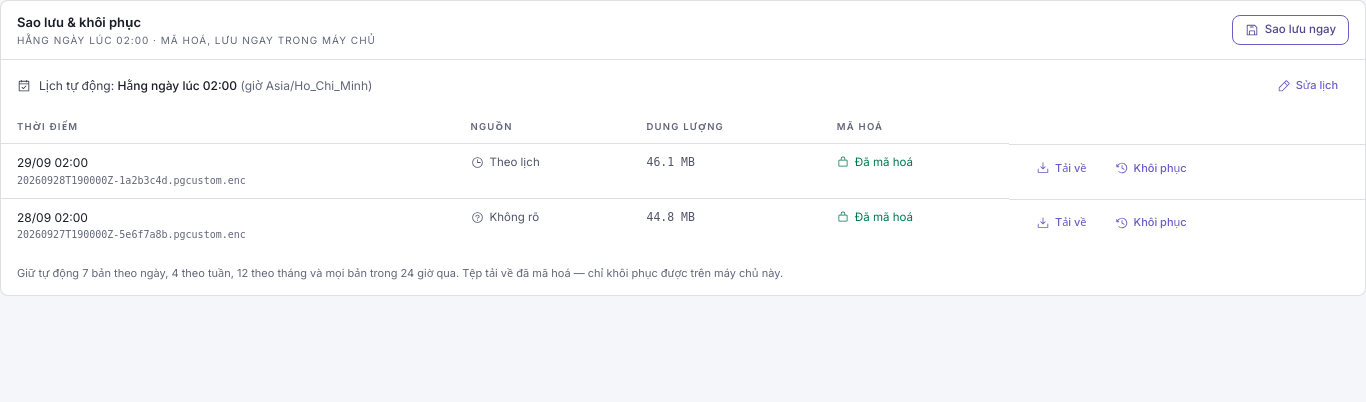
<BackupPanel> › sửa lịch sao lưu gửi PUT /system/backups/schedule
Click the button "Sửa lịch" at (1307, 86), box [1266,72,1349,99]
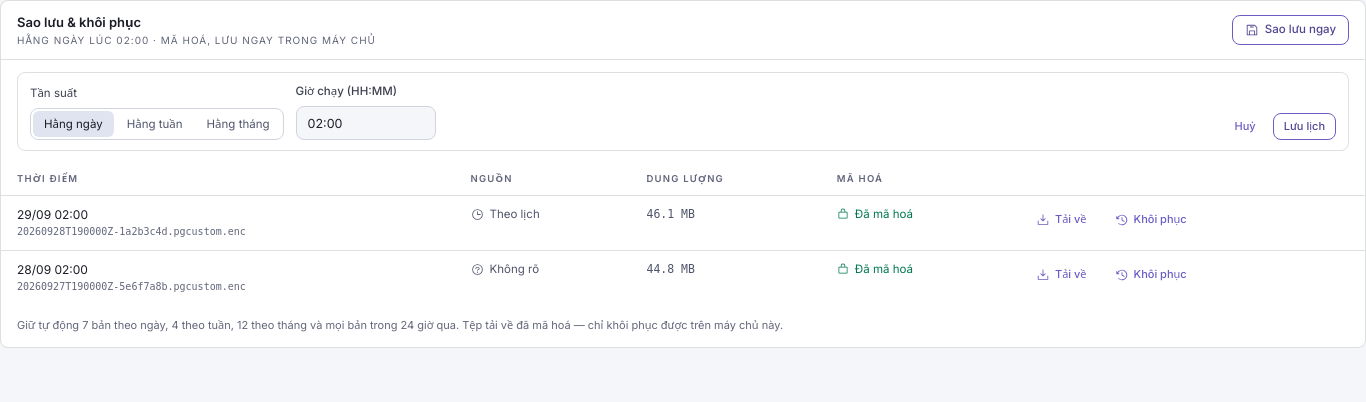
Click the radio button labelled "Hằng tuần" at (155, 124), box [116,111,194,137]
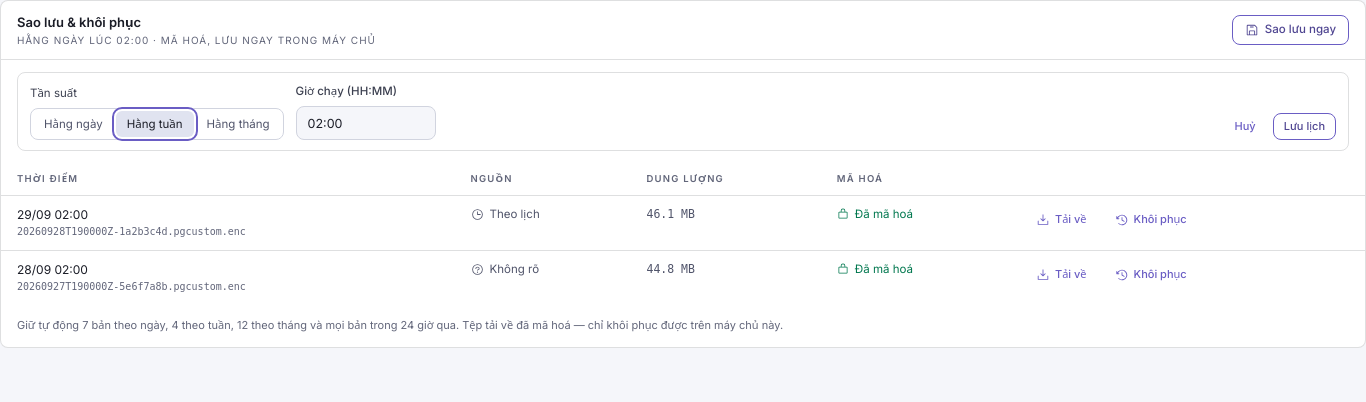
Type "25:00" into the field labelled "Giờ chạy (HH:MM)" at (366, 123), box [296,106,436,140]
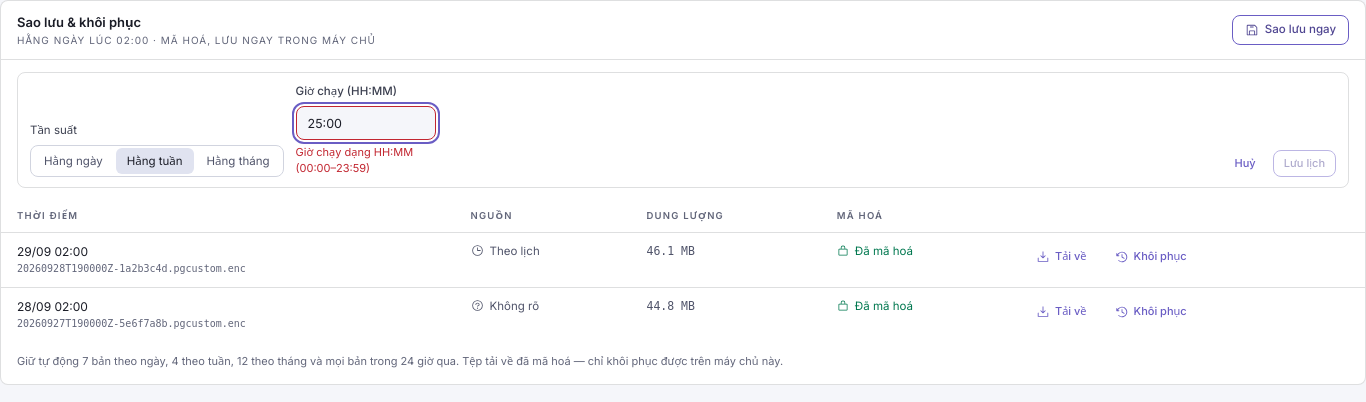
Expected: the button "Lưu lịch" is disabled, [1273,150,1336,177]
Replace the text in the field labelled "Giờ chạy (HH:MM)" with "03:30" at (366, 123), box [296,106,436,140]
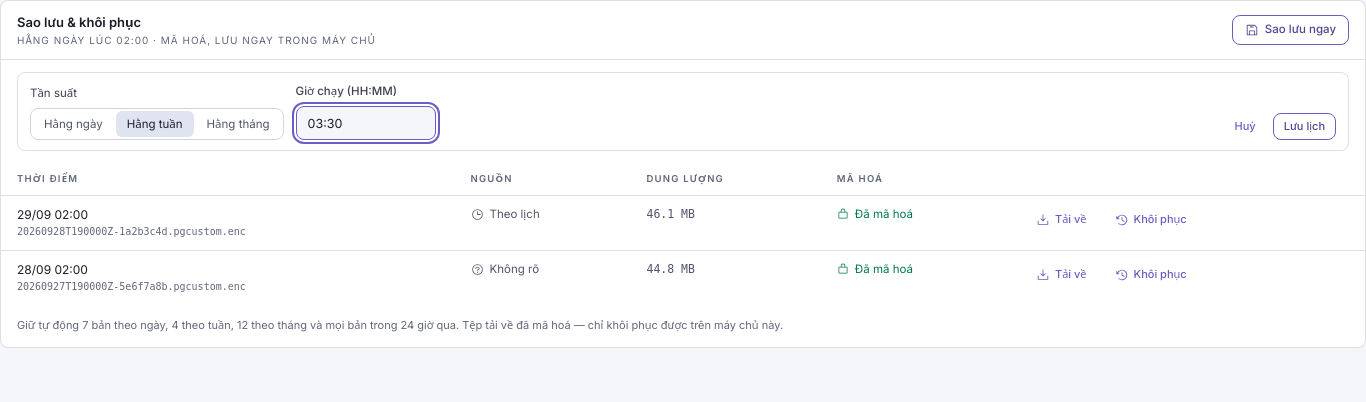
Click the button "Lưu lịch" at (1304, 126), box [1273,113,1336,140]
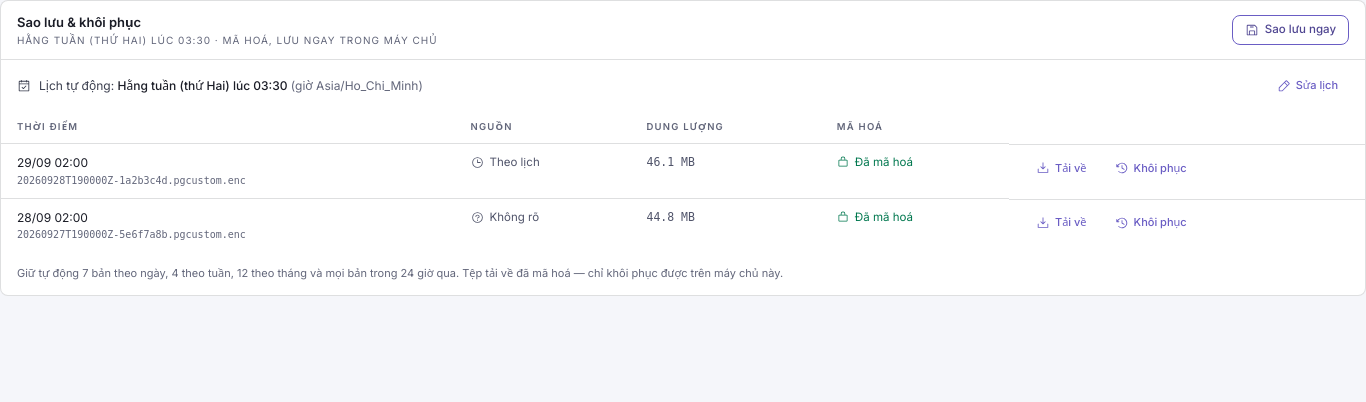
Expected: the text "Hằng tuần (thứ Hai) lúc 03:30" is shown, [118,78,288,93]
